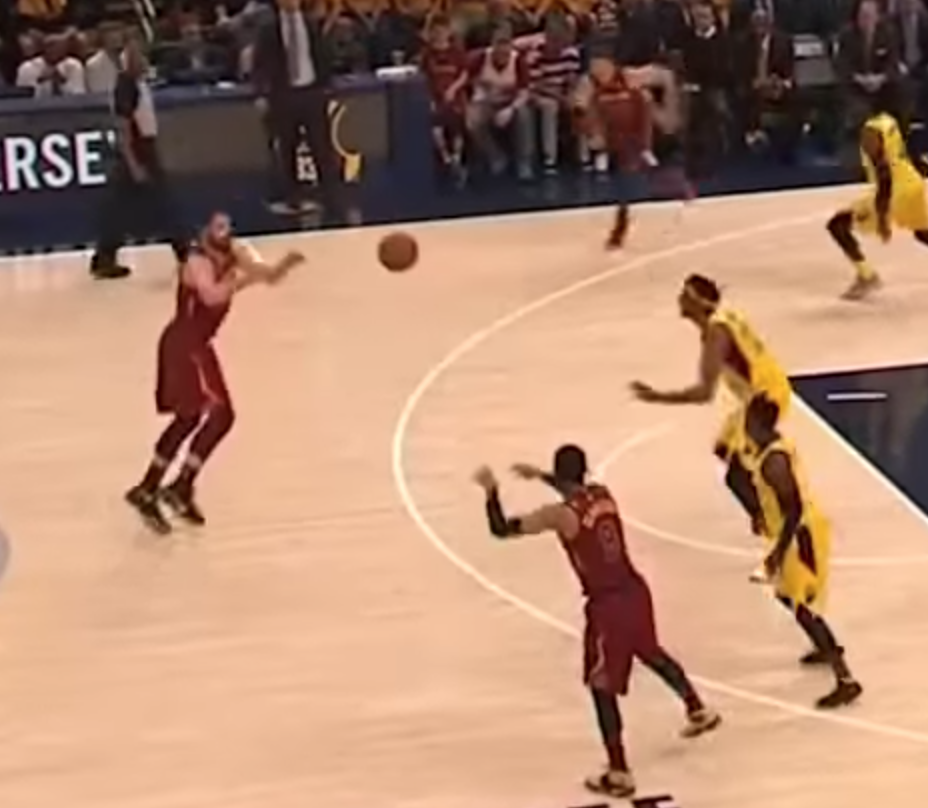basketball: (370, 227, 426, 278)
basketball player: (452, 436, 716, 803), (122, 205, 268, 534), (743, 390, 866, 728), (555, 56, 707, 250), (611, 264, 795, 400), (817, 93, 928, 309)
